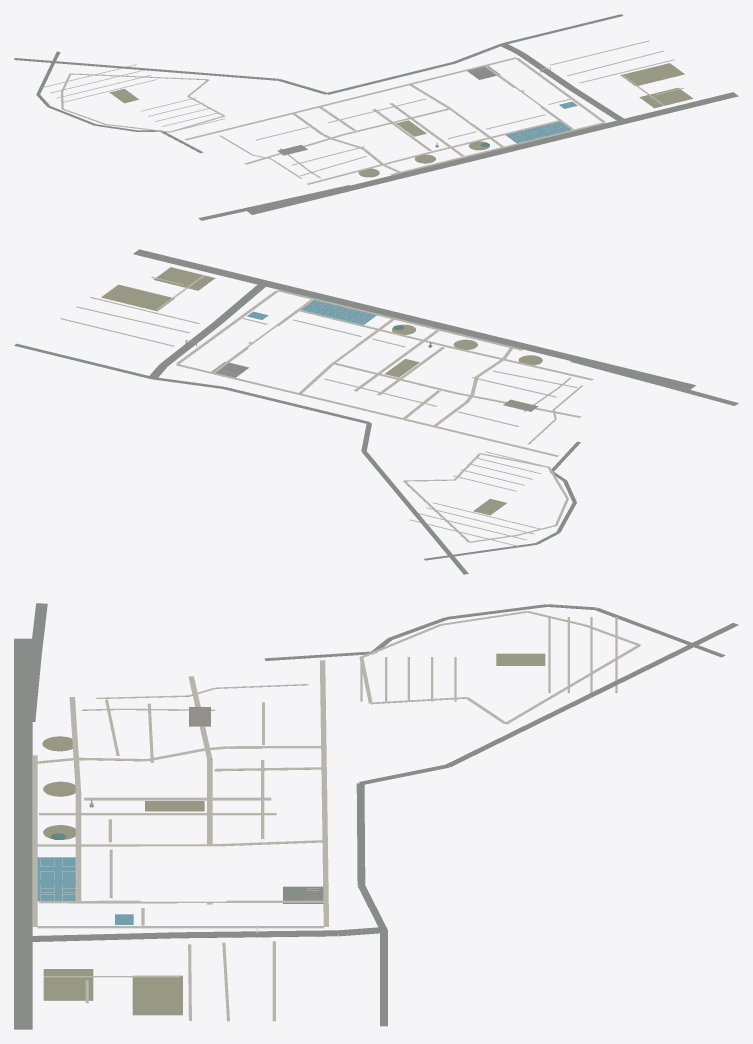
Rendered from 00-guanghua-v3.glb.
3 renders of one model, top to bottom at view 1: azimuth 30°, elevation 25°; view 2: azimuth 150°, elevation 25°; view 3: azimuth 270°, elevation 25°, orthographic. The views are drawn at different scales.
Visible parts, largest first — view 1: 邯郸路.001, Campus east west road.008, 东区草坪.001, 北侧边界道路.005, 室外球场.001, 新闻学院庭院.001, Campus east west road.015, 国定路.004, 北侧边界道路.007, 国定路.003, 北侧边界道路.009; view 2: 邯郸路.001, 东区草坪.001, Campus east west road.008, 室外球场.001, 北侧边界道路.005, 新闻学院庭院.001, Campus east west road.015; view 3: 邯郸路.001, 东区草坪.001, 室外球场.001, 北侧边界道路.005, Campus east west road.008, 新闻学院庭院.001, 国定路.004, 国定路.003, Campus east west road.015, Campus north south road.023, Campus north south road.022, 北侧边界道路.007 (+4 smaller).
Boxes of the visible parts, left/top/right/bottom form: 邯郸路.001: left=247, top=92, right=738, bottom=214; Campus east west road.008: left=185, top=57, right=516, bottom=140; 东区草坪.001: left=620, top=63, right=684, bottom=86; 北侧边界道路.005: left=14, top=58, right=279, bottom=80; 室外球场.001: left=506, top=121, right=571, bottom=143; 新闻学院庭院.001: left=639, top=87, right=693, bottom=108; Campus east west road.015: left=390, top=122, right=605, bottom=175; 国定路.004: left=517, top=52, right=574, bottom=89; 北侧边界道路.007: left=327, top=62, right=454, bottom=94; 国定路.003: left=568, top=87, right=626, bottom=122; 北侧边界道路.009: left=502, top=14, right=623, bottom=43; 邯郸路.001: left=133, top=249, right=695, bottom=389; 东区草坪.001: left=101, top=284, right=174, bottom=311; Campus east west road.008: left=176, top=364, right=558, bottom=456; 室外球场.001: left=301, top=300, right=376, bottom=324; 北侧边界道路.005: left=361, top=451, right=468, bottom=574; 新闻学院庭院.001: left=153, top=267, right=215, bottom=290; Campus east west road.015: left=277, top=289, right=523, bottom=350; 邯郸路.001: left=14, top=638, right=32, bottom=1029; 东区草坪.001: left=132, top=975, right=182, bottom=1015; 室外球场.001: left=37, top=857, right=75, bottom=901; 北侧边界道路.005: left=445, top=623, right=738, bottom=767; Campus east west road.008: left=320, top=660, right=328, bottom=926; 新闻学院庭院.001: left=43, top=969, right=93, bottom=1000; 国定路.004: left=177, top=930, right=338, bottom=938; 国定路.003: left=23, top=932, right=177, bottom=941; Campus east west road.015: left=32, top=755, right=37, bottom=926; Campus north south road.023: left=37, top=926, right=323, bottom=928; Campus north south road.022: left=39, top=900, right=326, bottom=903; 北侧边界道路.007: left=356, top=783, right=365, bottom=885.
Size of what is drawn, in the model's own units: 1038 by 8.23 by 746.
11 materials, 1 textured.
